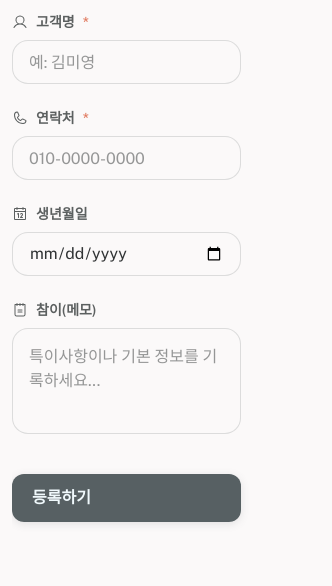
Test: CustomerRegisterForm › should show error when required fields are empty
Click the button "등록하기": (126, 498) [12,474,241,522]
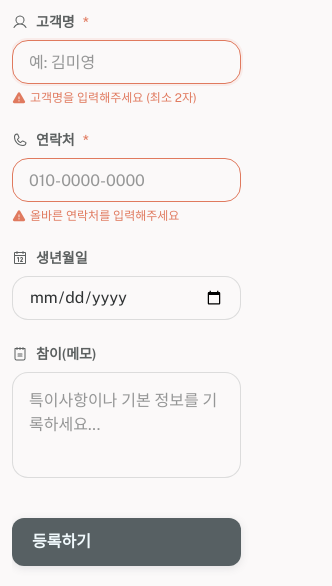
Now the text "고객명을 입력해주세요 (최소 2자)" is shown, box [30,90,197,106]
